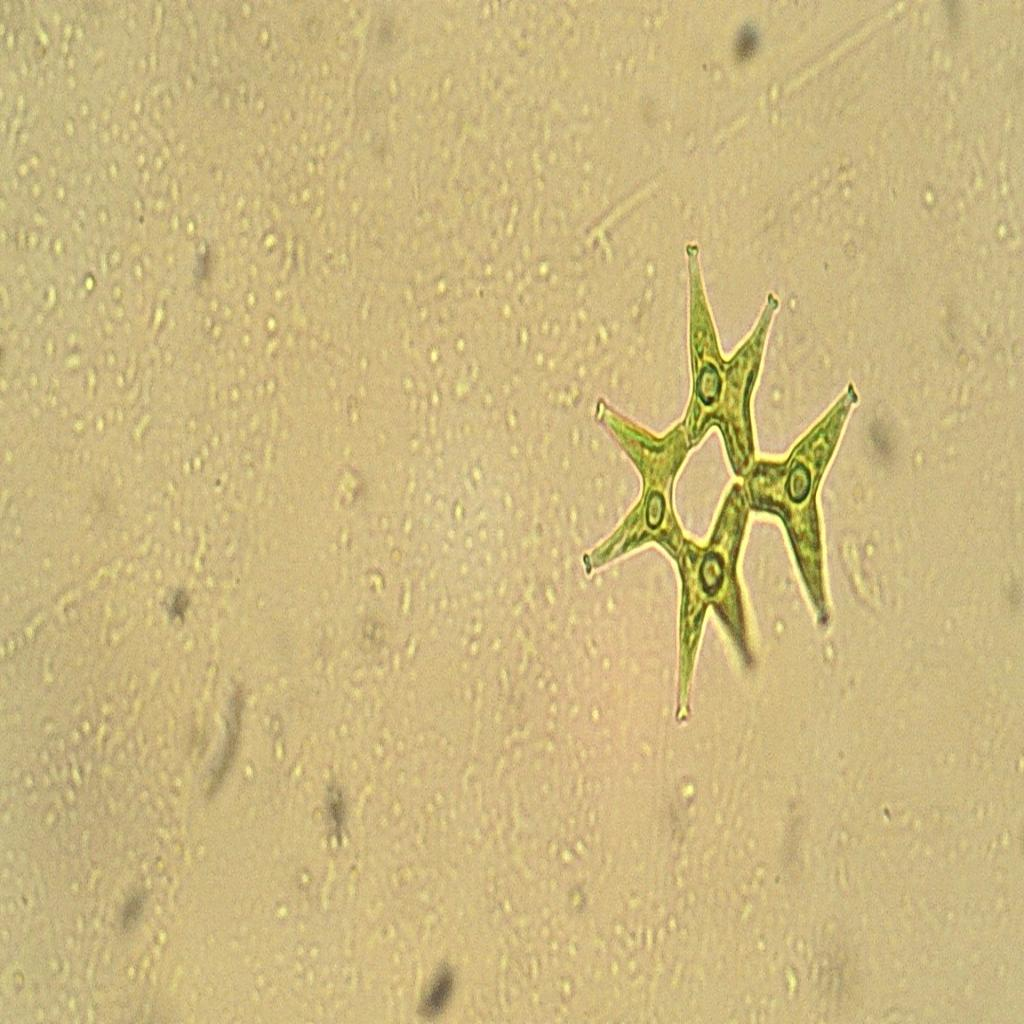Pediastrum_CT: (577, 225, 869, 731)
